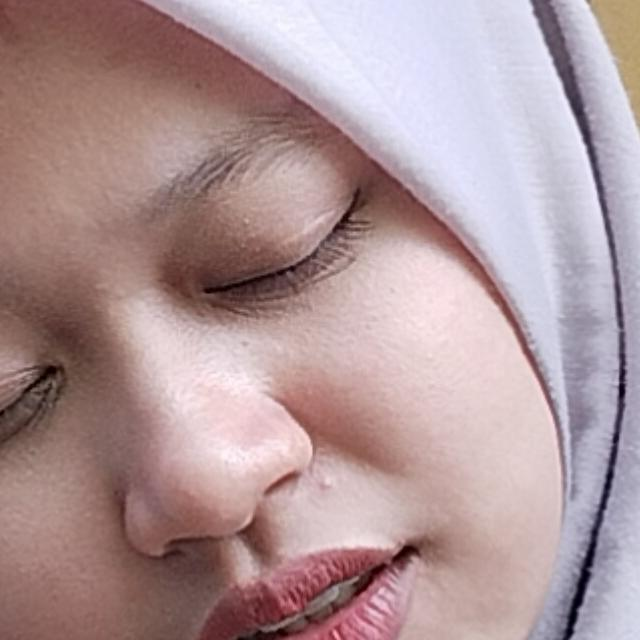tidur: (0, 348, 596, 640)
